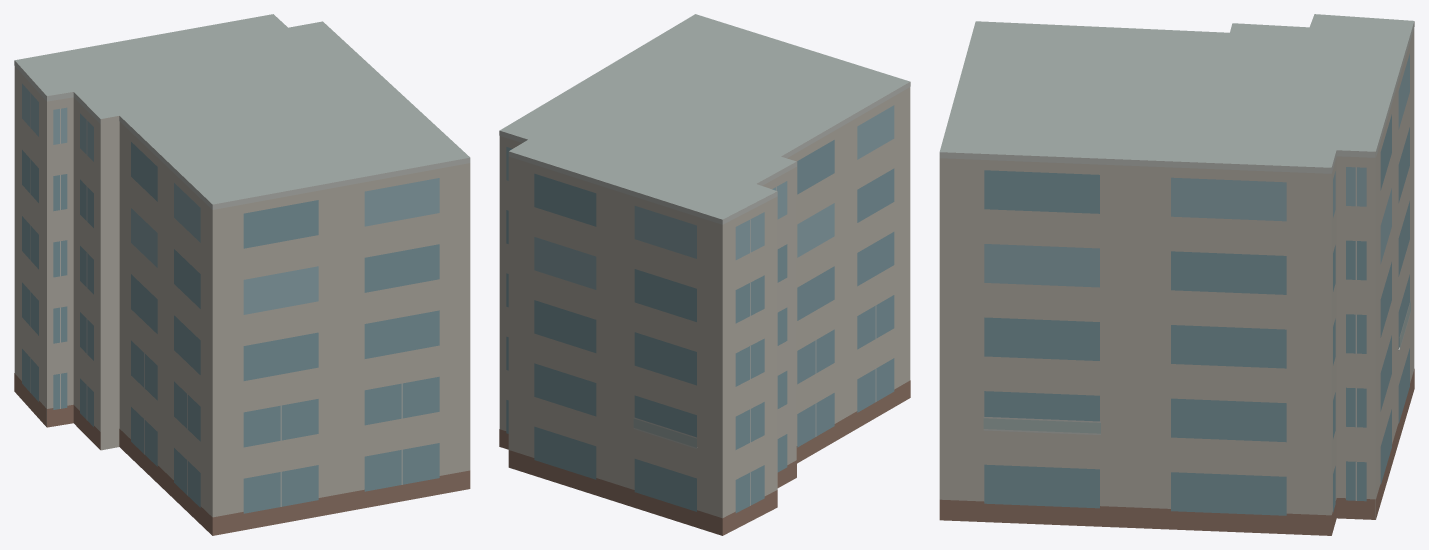
Rendered from survey-upis-32939994.glb.
The picture shows the model from 3 angles, left to right: view 1: azimuth 30°, elevation 25°; view 2: azimuth 150°, elevation 25°; view 3: azimuth 270°, elevation 25°; orthographic projection. The views are drawn at different scales.
Parts seen in each view (by area): view 1: survey-upis-32939994.tmp; view 2: survey-upis-32939994.tmp; view 3: survey-upis-32939994.tmp.
Part boxes in pixels (x1=…): survey-upis-32939994.tmp: x1=14, y1=14, x2=470, y2=535; survey-upis-32939994.tmp: x1=499, y1=14, x2=910, y2=535; survey-upis-32939994.tmp: x1=939, y1=14, x2=1414, y2=535.
Size of the model in its own units: 13.36 by 14.9 by 17.43.
